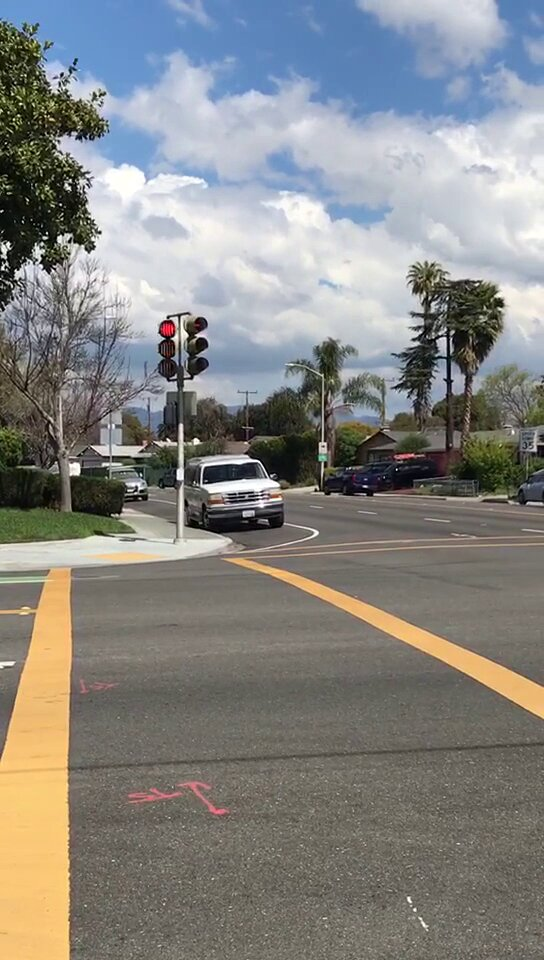red_light: (158, 318, 178, 377)
